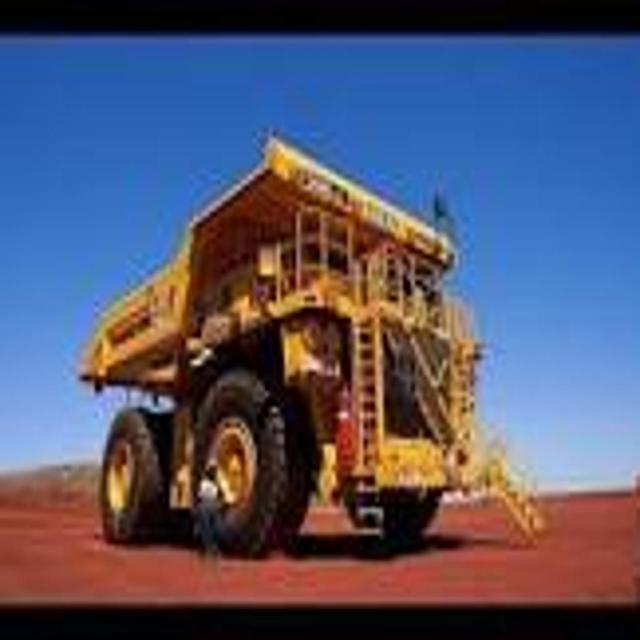dump_truck: (76, 127, 548, 557)
